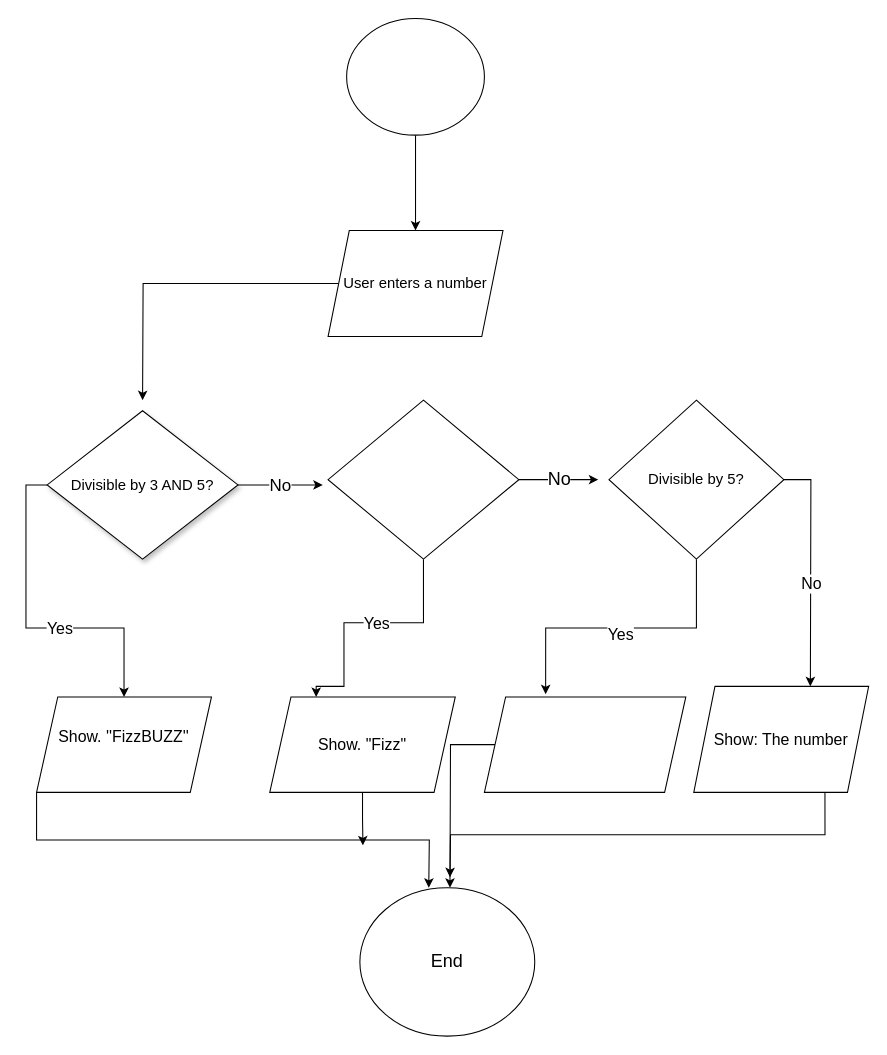
The diagram is 887 pixels wide and 1055 high, and some of its shapes have lost their labels. Each missing label, with the centre of its shape:
Divisible by 3 ?: point (423, 479)
Show. "Buzz": point (584, 744)
START: point (415, 76)
